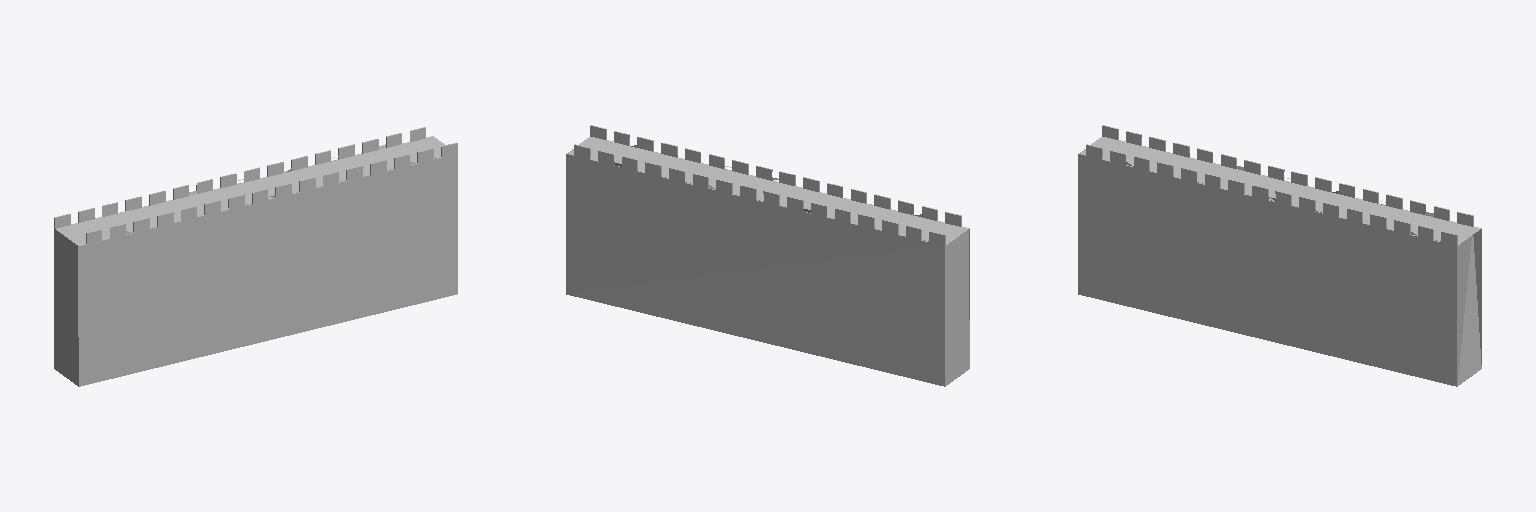
The model's file is wall.obj.
The picture shows the model from 3 angles: view 1: azimuth 30°, elevation 25°; view 2: azimuth 150°, elevation 25°; view 3: azimuth 330°, elevation 25°; orthographic projection.
Parts seen in each view (by area): view 1: Cube.002; view 2: Cube.002; view 3: Cube.002.
Part boxes in pixels (bbox=[...]): Cube.002: bbox=[54, 127, 457, 386]; Cube.002: bbox=[566, 125, 969, 386]; Cube.002: bbox=[1078, 125, 1481, 386].
Size of the model in its own units: 44.14 by 16.86 by 4.95.